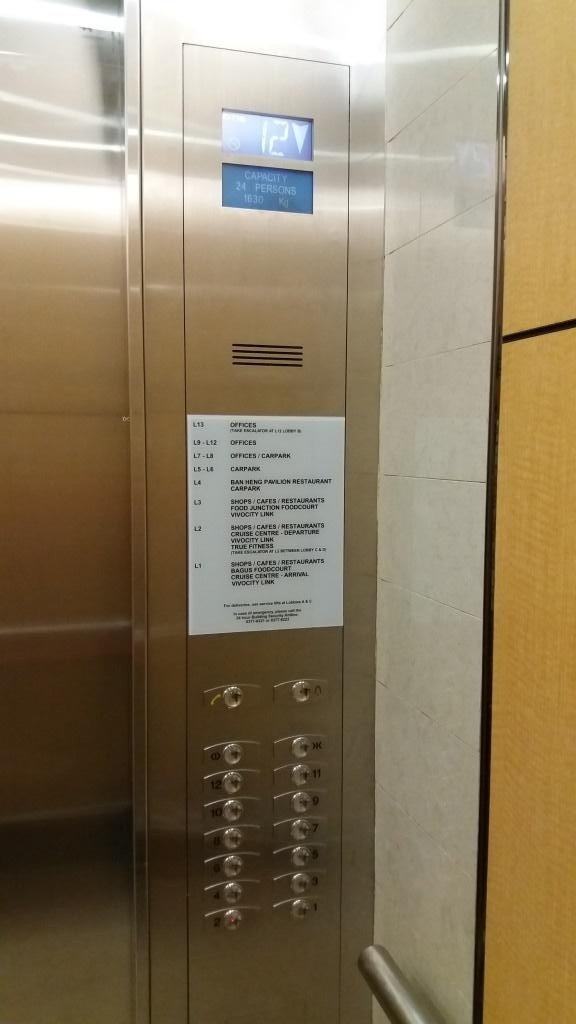1: (271, 895, 330, 922)
10: (201, 796, 263, 823)
11: (271, 760, 330, 788)
12: (201, 768, 263, 795)
2: (201, 905, 263, 932)
3: (271, 869, 330, 896)
4: (201, 878, 263, 905)
5: (271, 841, 330, 870)
6: (201, 851, 263, 878)
7: (271, 814, 330, 843)
8: (201, 824, 263, 851)
9: (271, 786, 330, 815)
alarm: (271, 676, 330, 707)
call: (201, 682, 263, 713)
close: (271, 731, 330, 760)
led: (217, 102, 317, 167), (218, 156, 316, 218)
open: (201, 738, 263, 769)
